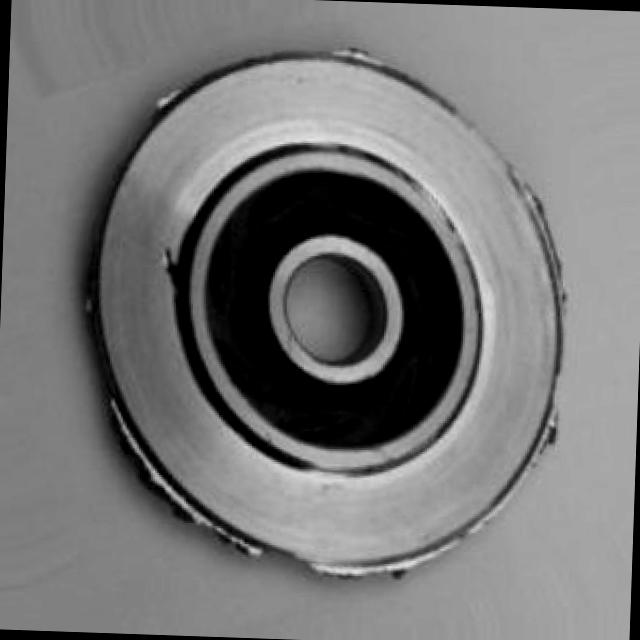Defect: (136, 75, 188, 116)
